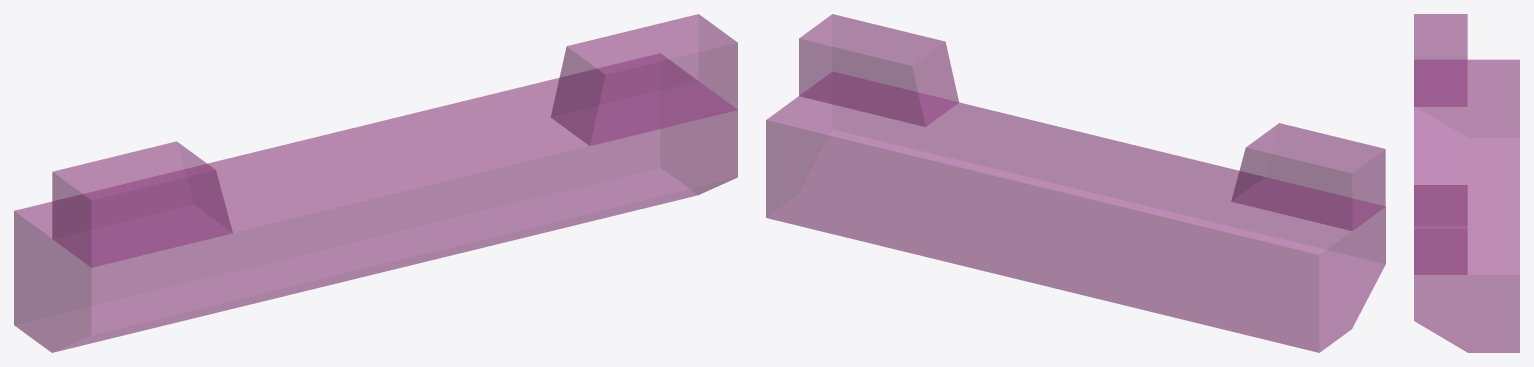
File: SM_Bld_Railing_Straight_01_Collision.fbx
3 renders of one model, left to right at view 1: azimuth 30°, elevation 25°; view 2: azimuth 150°, elevation 25°; view 3: azimuth 270°, elevation 25°, orthographic. The views are drawn at different scales.
Visible parts, largest first — view 1: SM_Bld_Railing_Straight_01_Collision; view 2: SM_Bld_Railing_Straight_01_Collision; view 3: SM_Bld_Railing_Straight_01_Collision.
Boxes of the visible parts, x1=… form: SM_Bld_Railing_Straight_01_Collision: x1=14, y1=14, x2=737, y2=352; SM_Bld_Railing_Straight_01_Collision: x1=766, y1=14, x2=1385, y2=352; SM_Bld_Railing_Straight_01_Collision: x1=1414, y1=14, x2=1519, y2=352.
Bounding box in the file's own units: 252 × 67.65 × 52.36.
